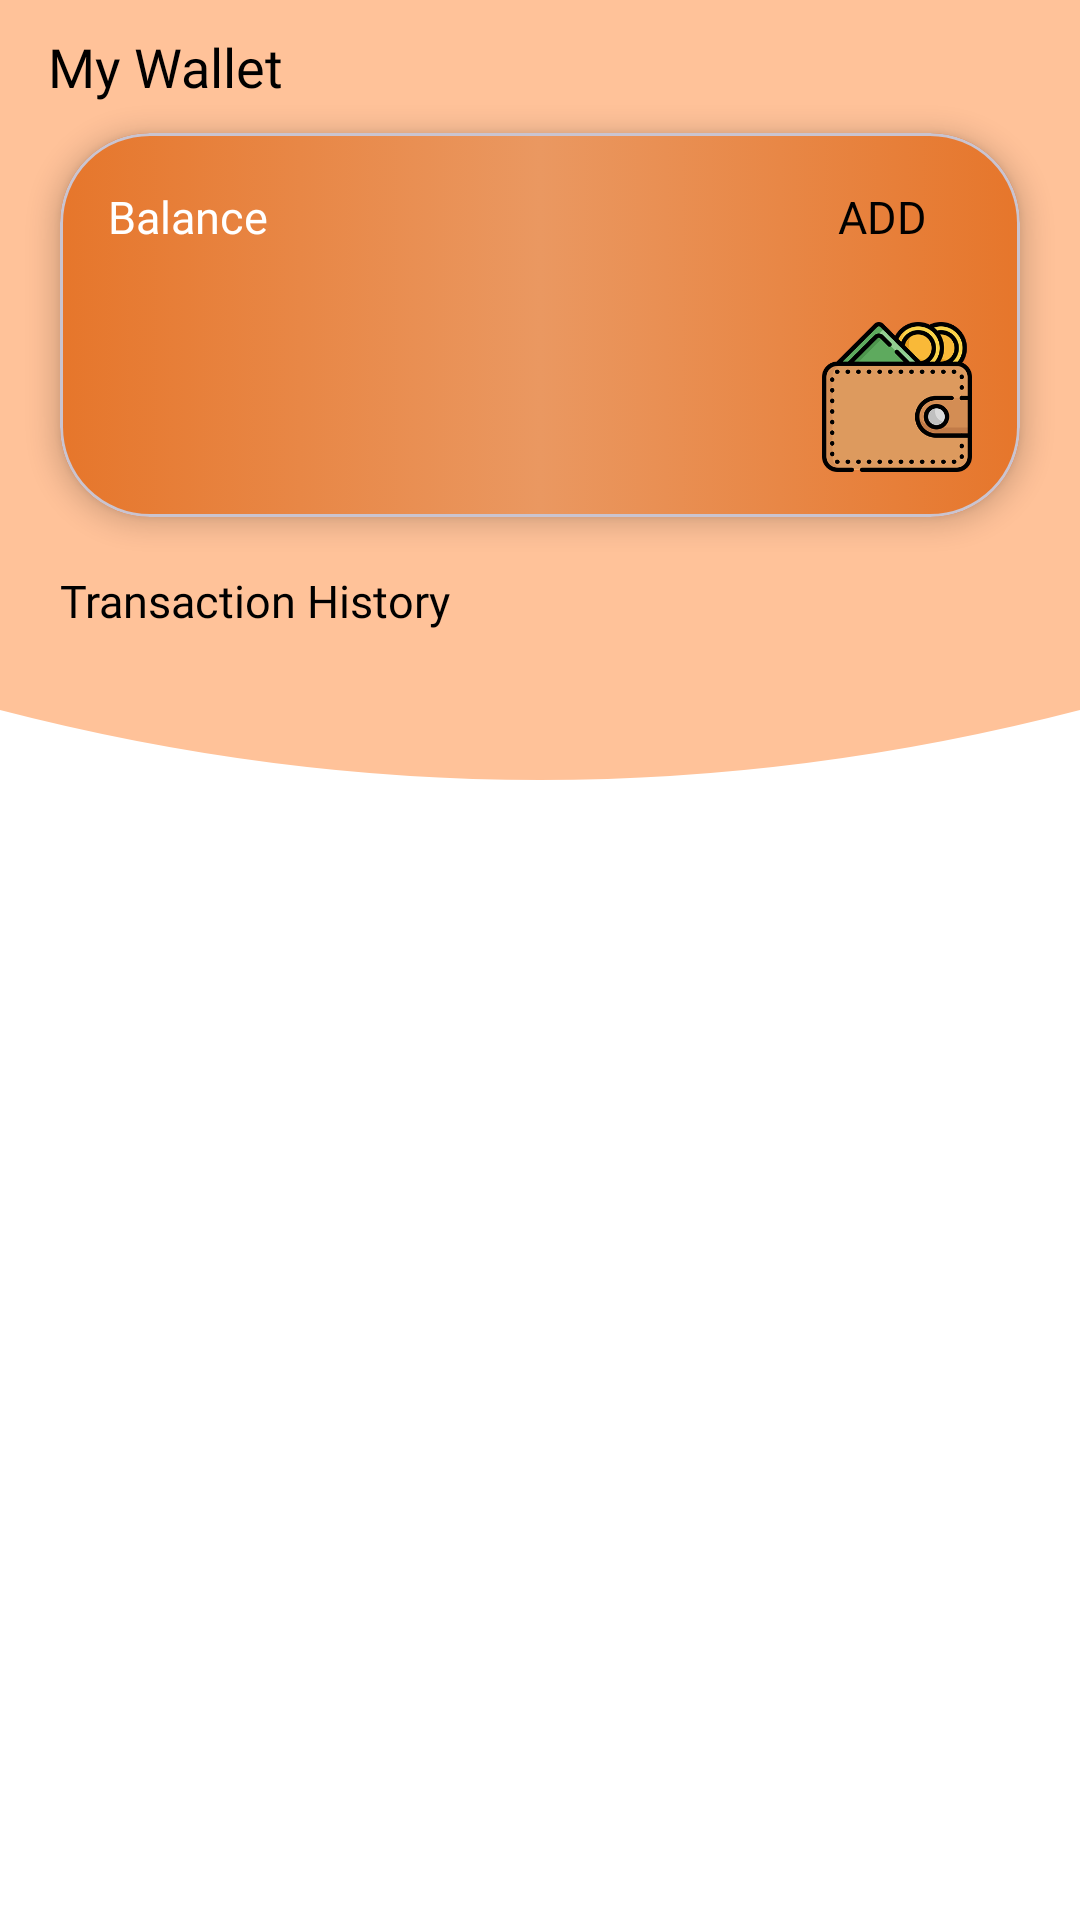

Icons on this 1080 × 1920 Android screen, each with the point to tap as (x=x, y=y):
Wallet icon: (x=897, y=397)
